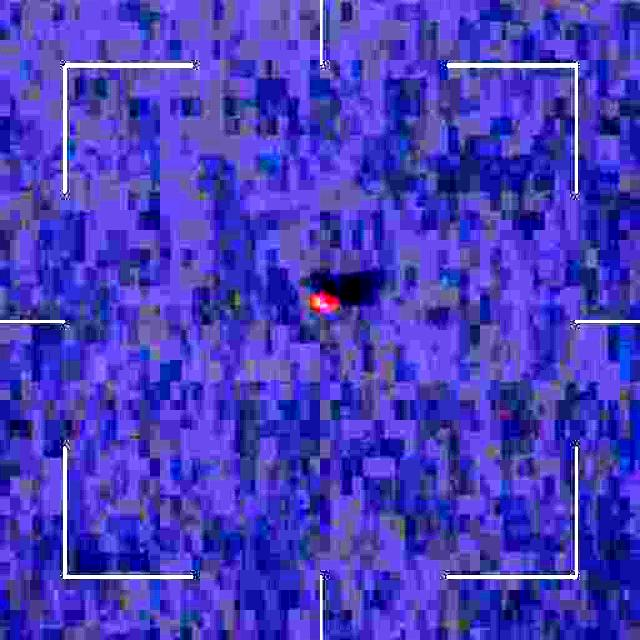bird: (309, 281, 345, 326)
